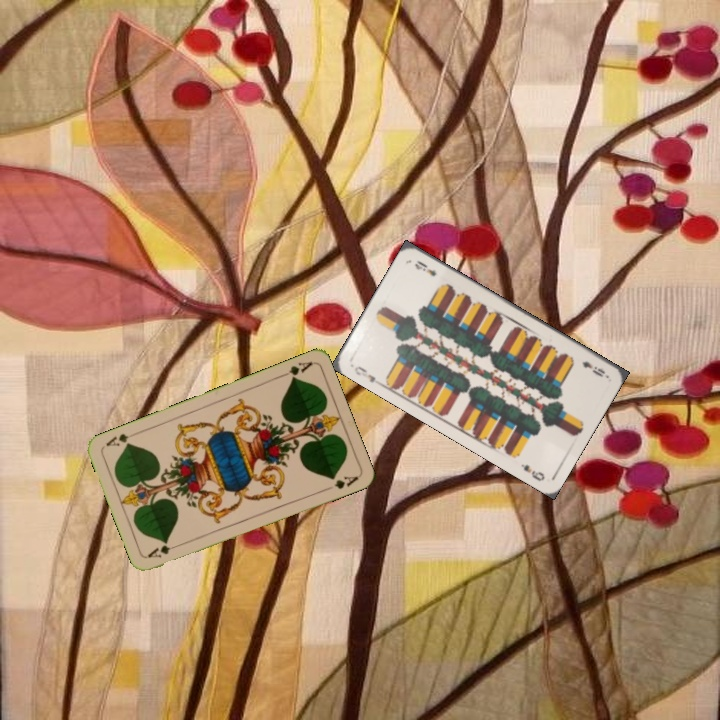E9: (350, 362, 384, 387), (578, 357, 608, 380)
GA: (276, 358, 315, 383), (144, 540, 183, 560)
